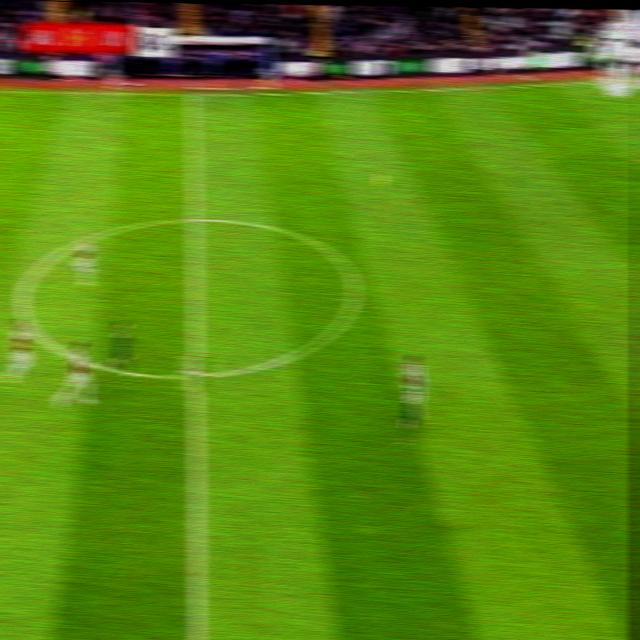halfcircle_bottom: (180, 356, 210, 395)
halfcircle_top: (178, 202, 209, 237)
midline_top_intersection: (180, 81, 204, 106)
